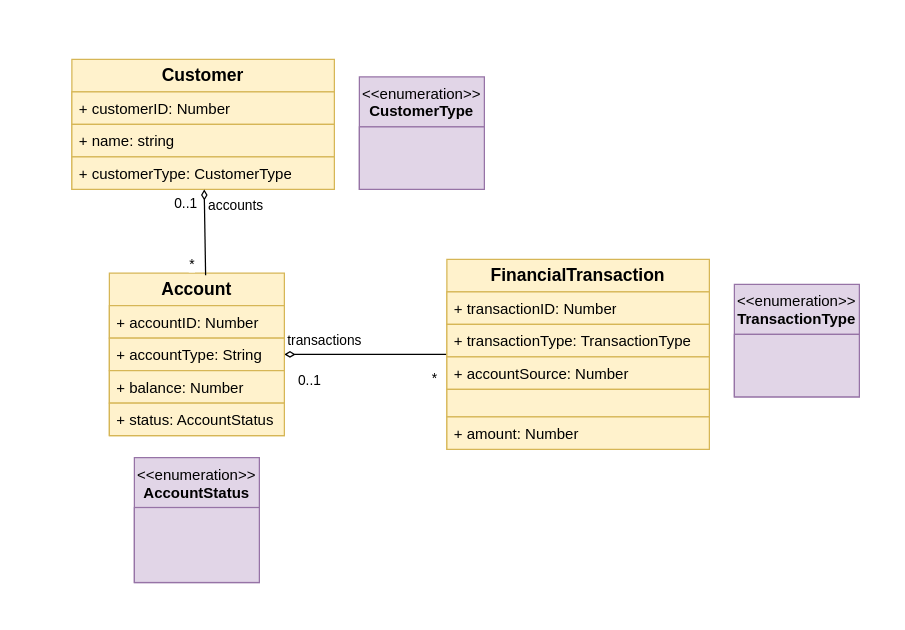
The diagram is 905 pixels wide and 630 high, and some of its shapes have lost their labels. The centre of each missing label's shape, as x and y in pixels:
"+ accountDestination: Number" belongs at (x=577, y=402).
"Active Suspended Inactive" belongs at (x=196, y=544).
"Business Individual" belongs at (x=421, y=157).
"Credit Debit" belongs at (x=796, y=365).
